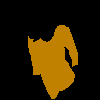maglia: (27, 24, 78, 98)
